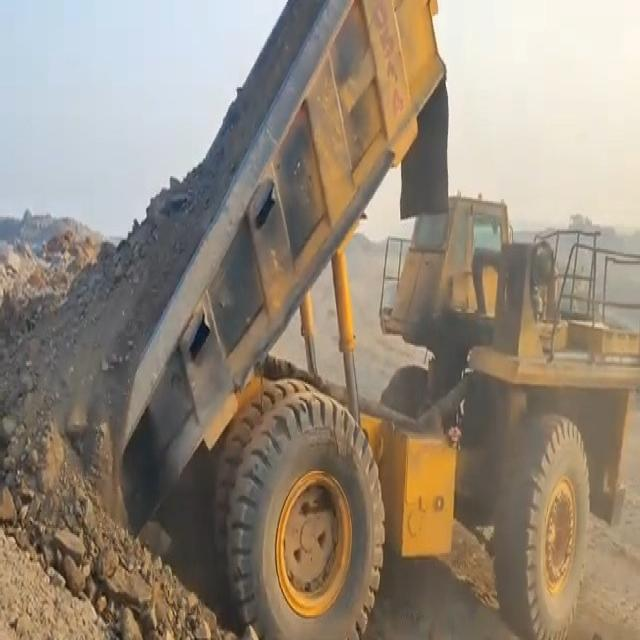dump_truck: (125, 5, 640, 640)
